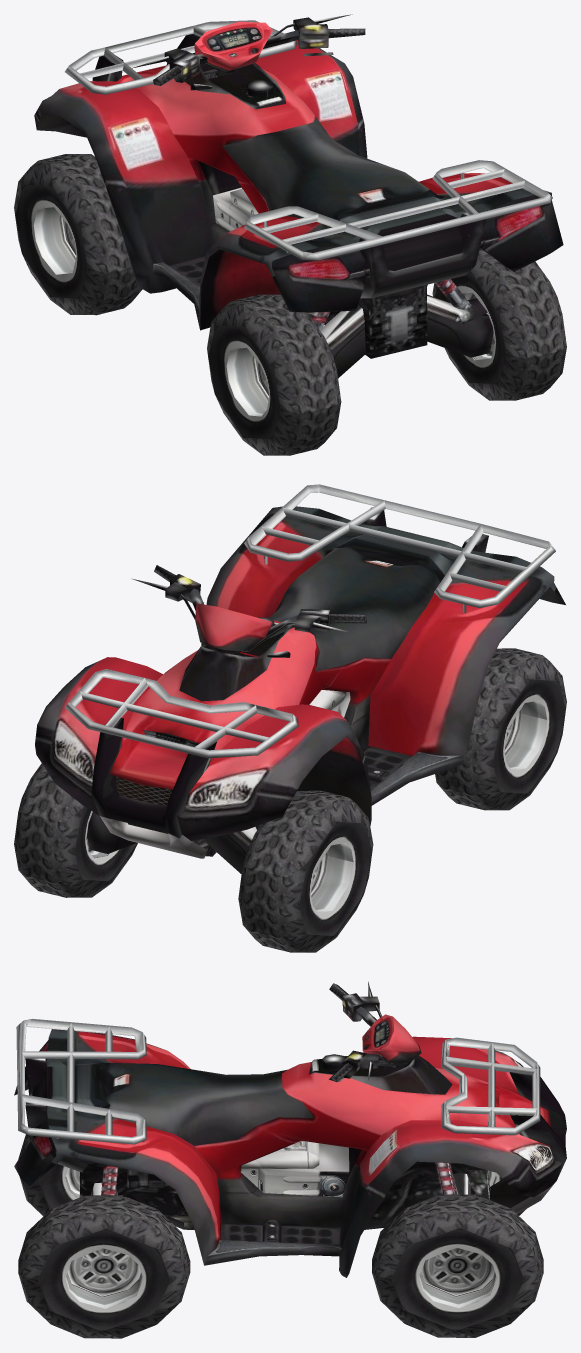
The model's file is ATV0.6.glb.
3 views of the same model, one above another, from view 1: azimuth 30°, elevation 25°; view 2: azimuth 150°, elevation 25°; view 3: azimuth 270°, elevation 25° (orthographic). The views are drawn at different scales.
Visible parts, largest first — view 1: ATV; view 2: ATV; view 3: ATV.
Boxes of the visible parts, x1,y1,x2,y2 form: ATV: [14, 14, 566, 455]; ATV: [14, 484, 566, 952]; ATV: [14, 981, 566, 1338].
Size of the model in its own units: 1.43 by 1.32 by 2.62.
1 material, 1 textured.
